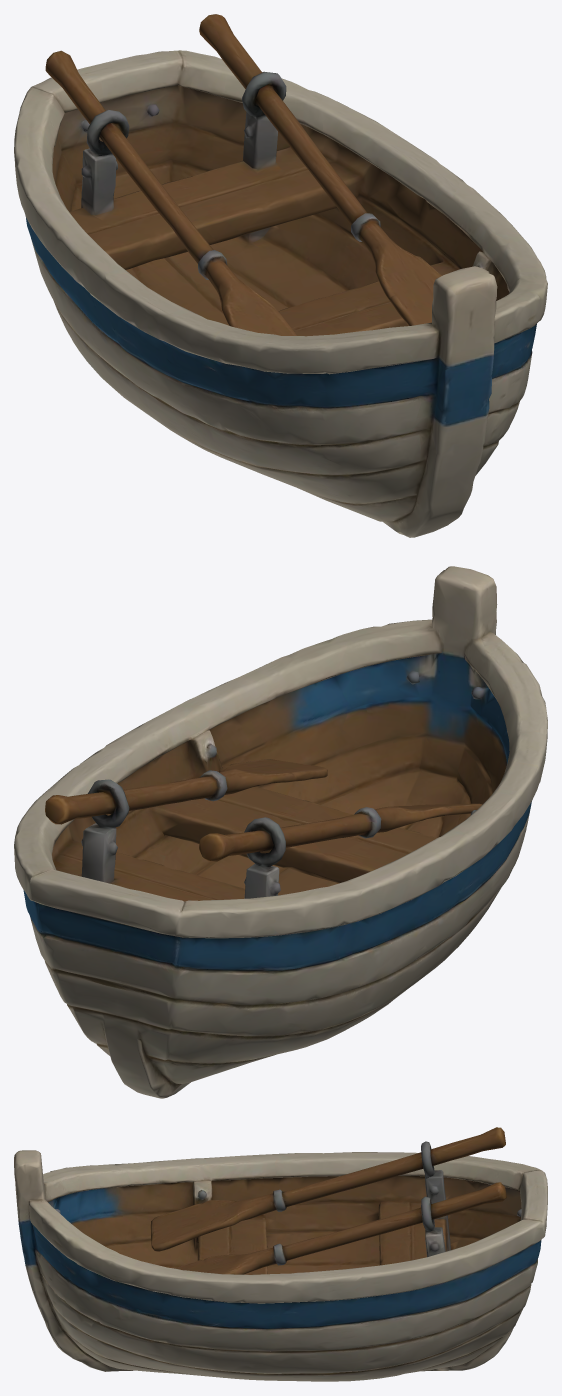
File: bote.glb
3 views of the same model, one above another, from view 1: azimuth 30°, elevation 25°; view 2: azimuth 150°, elevation 25°; view 3: azimuth 270°, elevation 25° (orthographic). The views are drawn at different scales.
Parts seen in each view (by area): view 1: tripo_node_dca24c7e-ac45-44da-b7eb-360b0f19534e; view 2: tripo_node_dca24c7e-ac45-44da-b7eb-360b0f19534e; view 3: tripo_node_dca24c7e-ac45-44da-b7eb-360b0f19534e.
Boxes of the visible parts, <box> form: tripo_node_dca24c7e-ac45-44da-b7eb-360b0f19534e: <box>14,14,547,537</box>; tripo_node_dca24c7e-ac45-44da-b7eb-360b0f19534e: <box>14,566,547,1098</box>; tripo_node_dca24c7e-ac45-44da-b7eb-360b0f19534e: <box>14,1127,547,1381</box>.
Size of the model in its own units: 0.5706 by 0.4396 by 1.
Materials: 1 (1 with a texture image).
